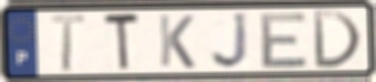D: (310, 9, 364, 71)
E: (259, 10, 311, 70)
J: (209, 10, 252, 71)
K: (156, 13, 197, 70)
T: (102, 11, 142, 74), (48, 13, 88, 75)
